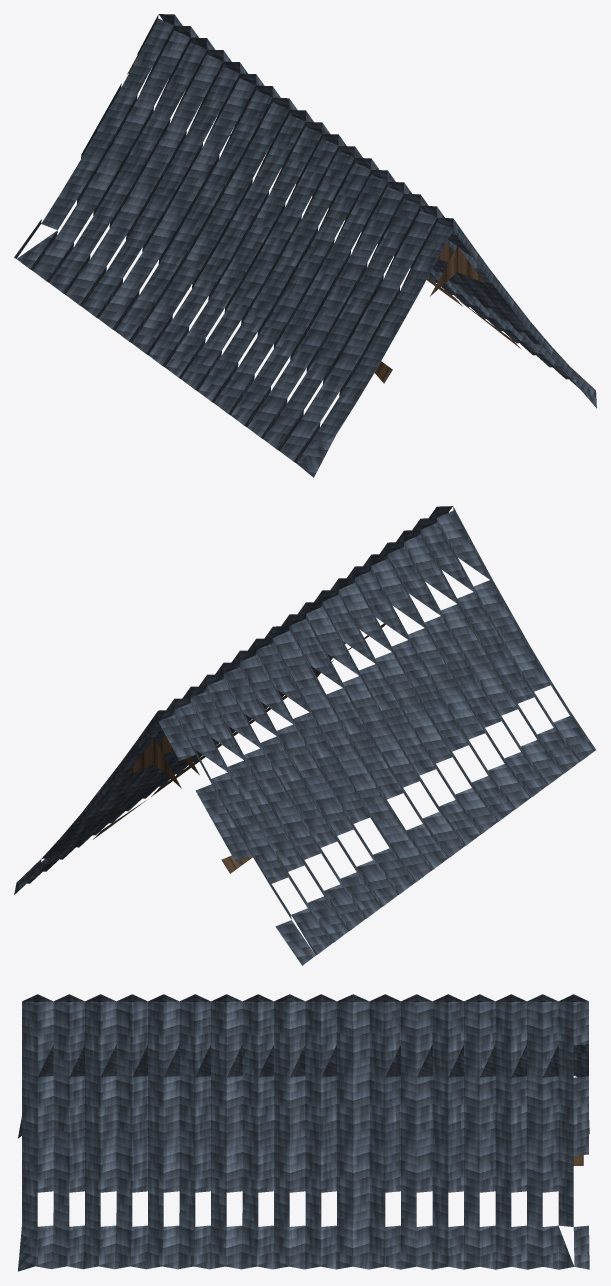
Rendered from Roof_Slate_4x8_LOD1.gltf.
3 views of the same model, one above another, from view 1: azimuth 30°, elevation 25°; view 2: azimuth 150°, elevation 25°; view 3: azimuth 270°, elevation 25° (orthographic). The views are drawn at different scales.
Parts seen in each view (by area): view 1: Roof_Slate_4x8_LOD1; view 2: Roof_Slate_4x8_LOD1; view 3: Roof_Slate_4x8_LOD1.
Boxes of the visible parts, box(x1,y1,x2,y2) form: Roof_Slate_4x8_LOD1: box(14, 14, 596, 477); Roof_Slate_4x8_LOD1: box(14, 506, 596, 965); Roof_Slate_4x8_LOD1: box(18, 994, 589, 1271).
Bounding box in the file's own units: 5.51 × 3.79 × 9.66.
2 materials, 2 textured.
